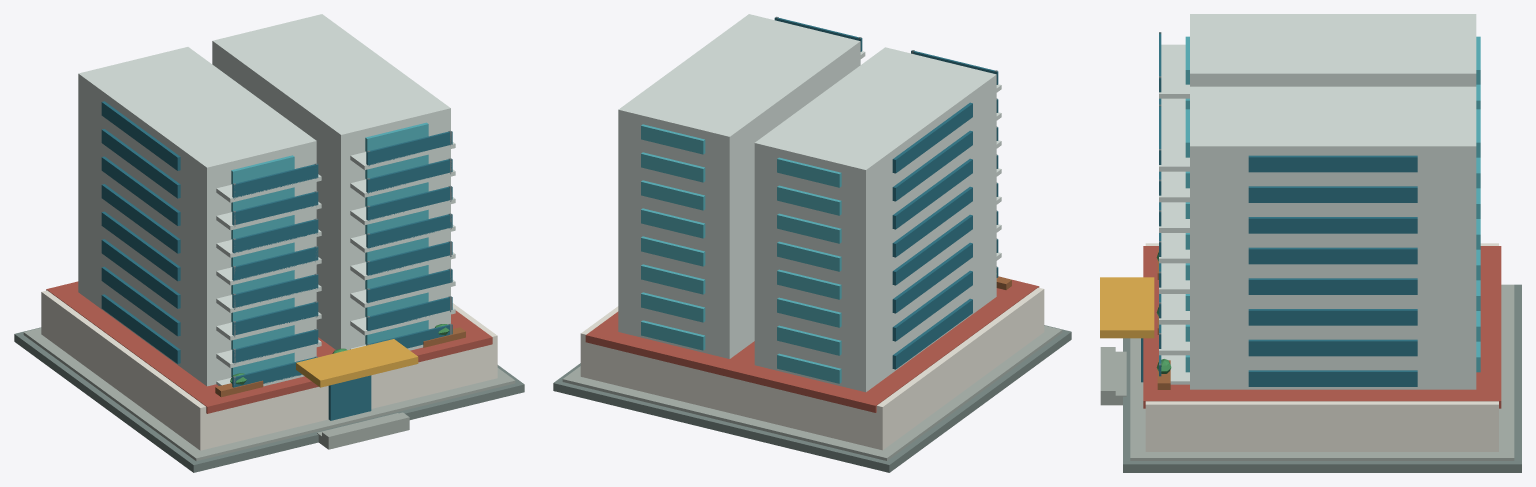
Rendered from apartment_lv2.glb.
3 views of the same model, side by side, from view 1: azimuth 30°, elevation 25°; view 2: azimuth 150°, elevation 25°; view 3: azimuth 270°, elevation 25° (orthographic). The views are drawn at different scales.
Parts seen in each view (by area): view 1: white, glassDark, ivory, glass, concrete, brick, pavement, gold, wood, steel; view 2: white, ivory, glass, glassDark, brick, pavement, concrete; view 3: white, glassDark, ivory, brick, concrete, pavement, gold, glass.
Part boxes in pixels (x1,y1,x2,y2): white: [78, 14, 455, 386]; glassDark: [101, 101, 452, 420]; ivory: [41, 290, 497, 450]; glass: [231, 122, 428, 376]; concrete: [23, 328, 515, 461]; brick: [46, 281, 492, 413]; pavement: [14, 327, 524, 472]; gold: [296, 339, 418, 387]; wood: [215, 327, 465, 397]; steel: [233, 130, 451, 385]; white: [618, 14, 1001, 392]; ivory: [580, 287, 1044, 450]; glass: [641, 124, 841, 383]; glassDark: [774, 17, 998, 369]; brick: [585, 276, 1039, 412]; pavement: [553, 325, 1071, 472]; concrete: [562, 325, 1062, 460]; white: [1159, 14, 1476, 389]; glassDark: [1141, 33, 1417, 386]; ivory: [1145, 243, 1498, 451]; brick: [1143, 246, 1501, 408]; concrete: [1100, 284, 1514, 460]; pavement: [1123, 284, 1521, 472]; gold: [1100, 277, 1154, 338]; glass: [1185, 36, 1480, 372].
Bounding box in the file's own units: 9.8 × 7.71 × 9.72.
